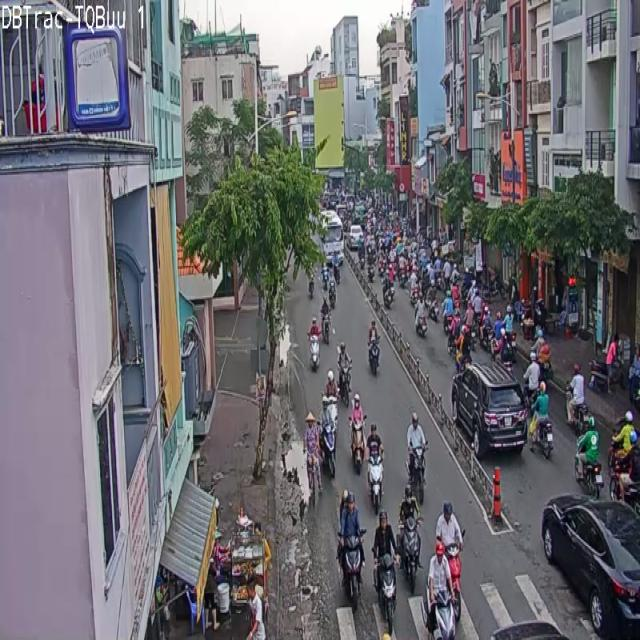car: (115, 189, 155, 471), (423, 543, 457, 639), (372, 512, 398, 633), (338, 491, 365, 602), (406, 412, 426, 501), (398, 515, 420, 592), (367, 424, 383, 513), (436, 501, 463, 553)
traffic-light: (541, 495, 639, 639), (452, 363, 526, 458)
